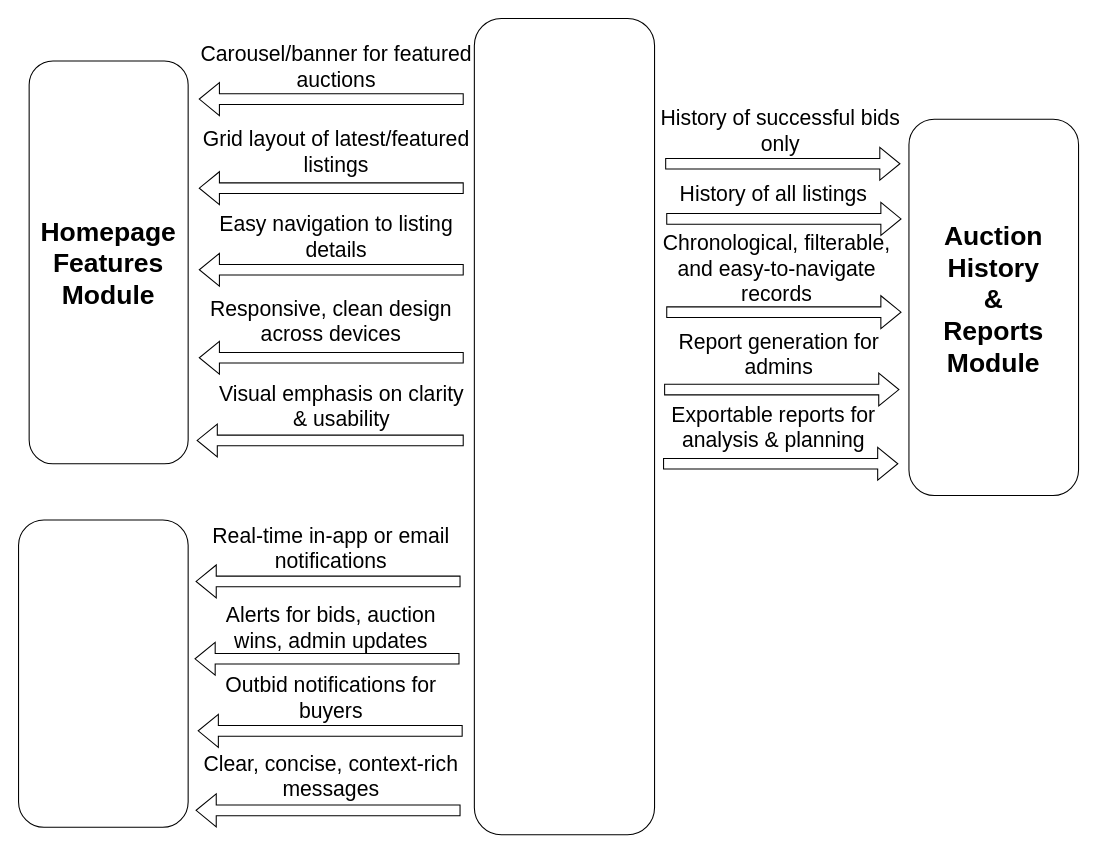
This 1097x853 diagram has some shape labels left out. Here are the shapes that lost their labels. From the top down, the centre of each, then its label:
At point 564,426: "Web Auction System".
At point 102,673: "Notifications Module".
